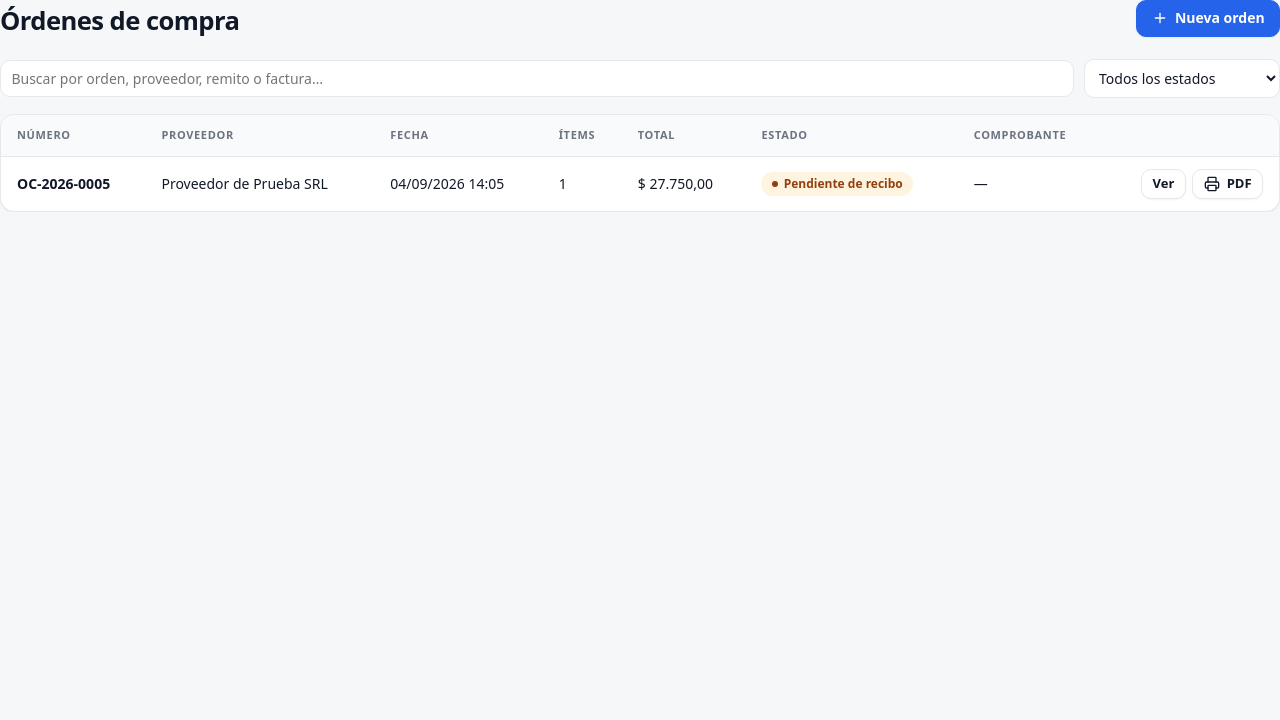
it: OrdenesCompraPage — una sola ventana a la vez › sin el permiso de enviar, no se ofrece el envio
The image size is (1280, 720).
Click the button "Ver": (1164, 184) 1141,169 -> 1186,199
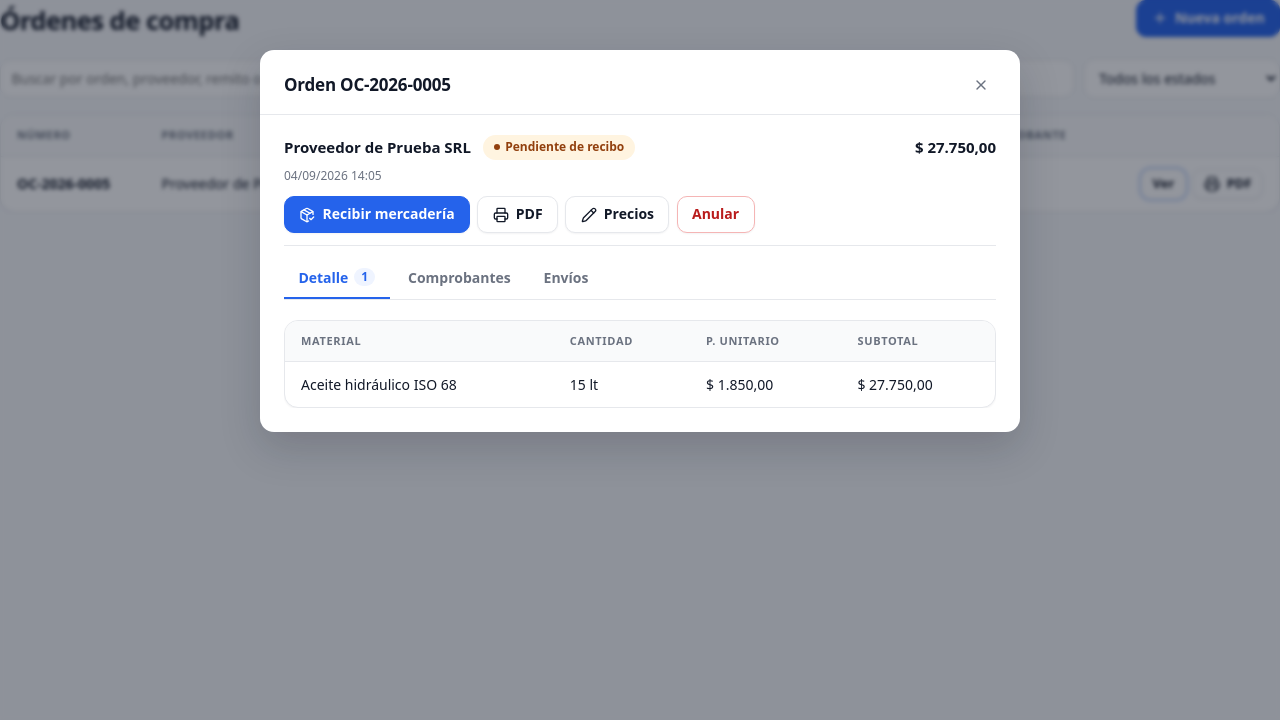
expect the heading "Orden OC-2026-0005" is shown: met, box 284,72 -> 451,98
expect the button with aria-label "descargar pdf" is shown: met, box 477,196 -> 558,233
